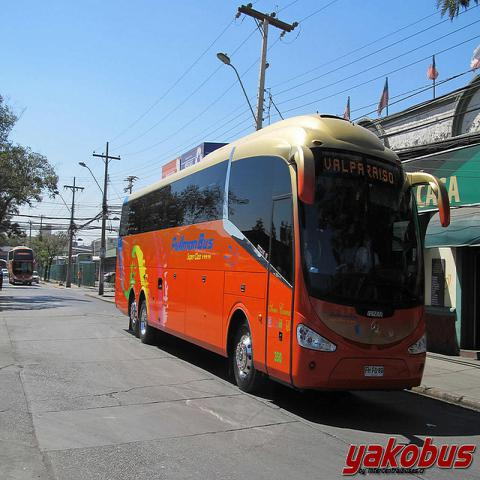bus: (114, 114, 453, 395), (6, 246, 36, 286)
car: (102, 272, 116, 284), (32, 271, 40, 283)
